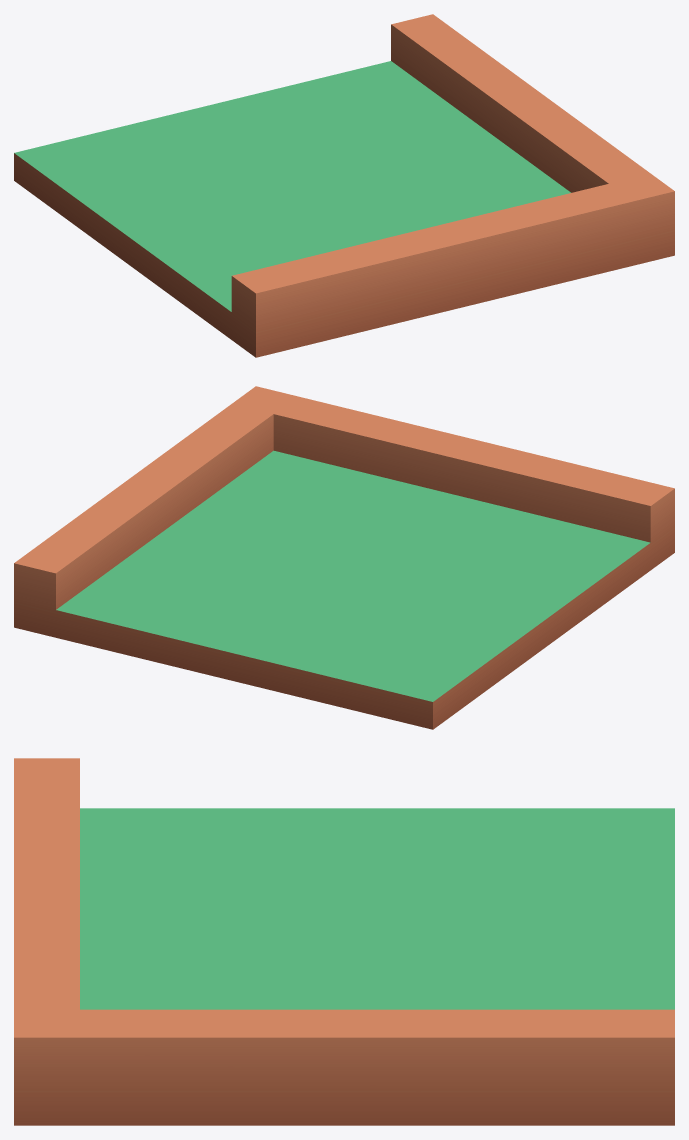
File: corner.glb
3 renders of one model, top to bottom at view 1: azimuth 30°, elevation 25°; view 2: azimuth 150°, elevation 25°; view 3: azimuth 270°, elevation 25°, orthographic. The views are drawn at different scales.
Visible parts, largest first — view 1: corner; view 2: corner; view 3: corner.
Boxes of the visible parts, <box> form: corner: <box>14,14,674,357</box>; corner: <box>14,386,674,729</box>; corner: <box>14,758,674,1125</box>.
Bounding box in the file's own units: 0.9999 × 0.1467 × 0.9999.
Materials: 1 (1 with a texture image).
